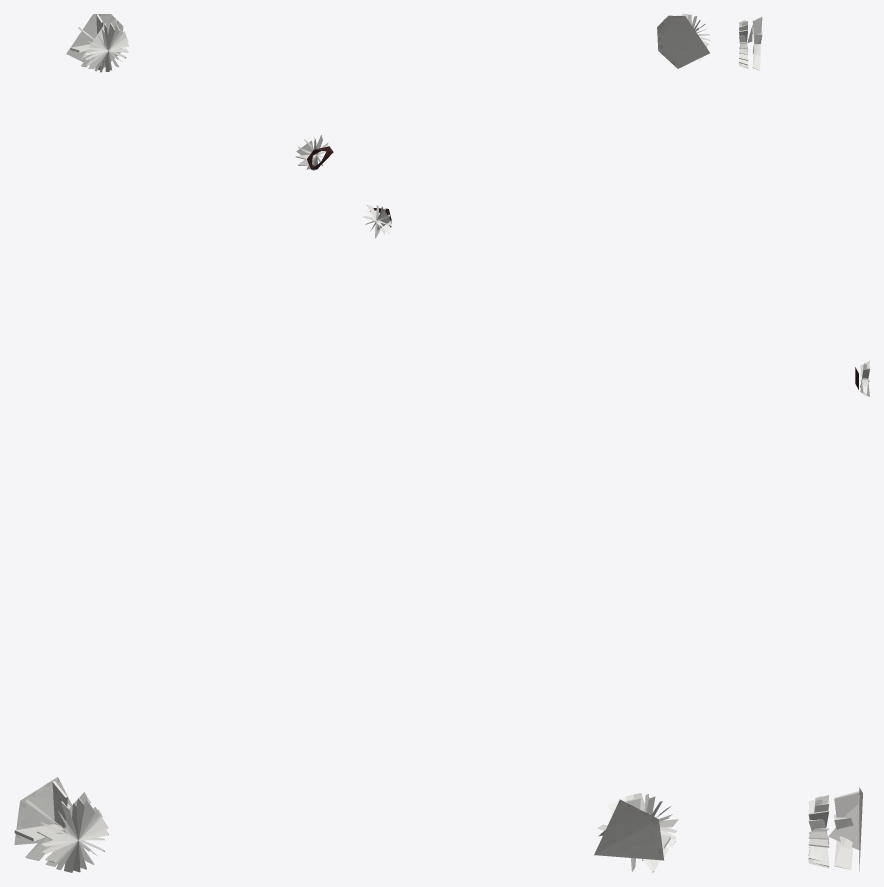
Rendered from sgz005-geode.glb.
3 views of the same model, side by side, from view 1: azimuth 30°, elevation 25°; view 2: azimuth 150°, elevation 25°; view 3: azimuth 270°, elevation 25° (orthographic). The views are drawn at different scales.
Parts seen in each view (by area): view 1: Node; view 2: Node; view 3: Node.
Boxes of the visible parts, left/top/right/bottom form: Node: left=14, top=14, right=333, bottom=872; Node: left=362, top=14, right=710, bottom=872; Node: left=739, top=16, right=869, bottom=871.
Size of the model in its own units: 2.98 by 7.88 by 1.1.
1 material, 1 textured.
